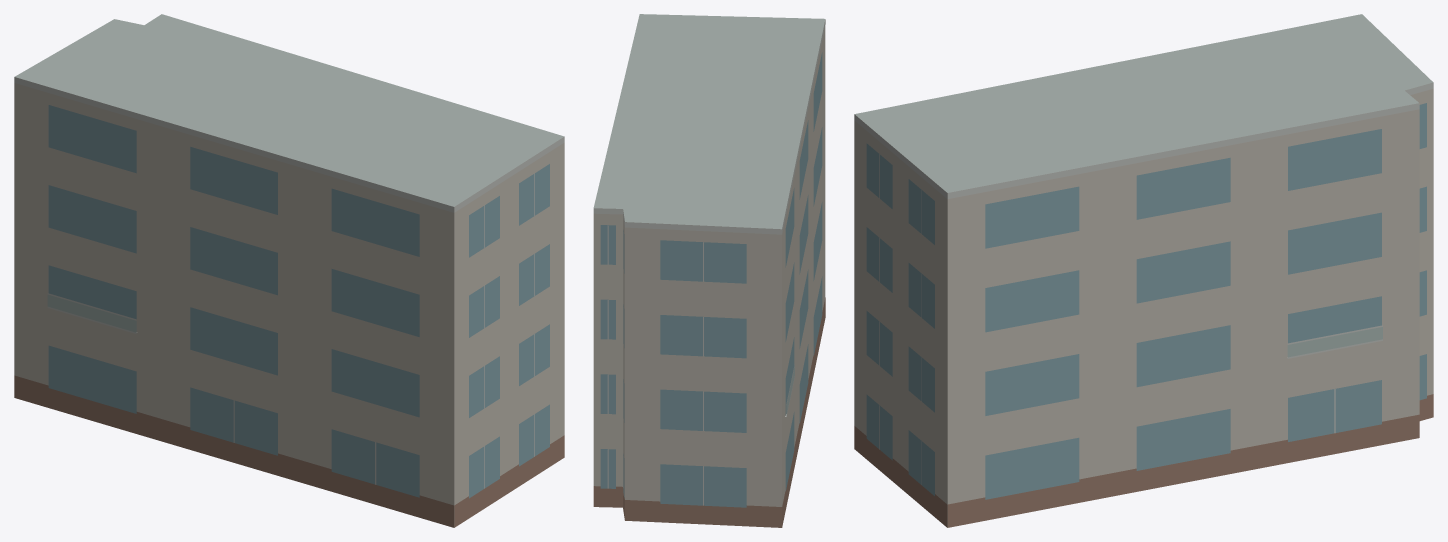
Rendered from survey-upis-32942885.glb.
3 renders of one model, left to right at view 1: azimuth 30°, elevation 25°; view 2: azimuth 150°, elevation 25°; view 3: azimuth 270°, elevation 25°, orthographic. The views are drawn at different scales.
Visible parts, largest first — view 1: survey-upis-32942885.tmp; view 2: survey-upis-32942885.tmp; view 3: survey-upis-32942885.tmp.
Part boxes in pixels (<box>): survey-upis-32942885.tmp: <box>14,14,564,527</box>; survey-upis-32942885.tmp: <box>593,14,825,527</box>; survey-upis-32942885.tmp: <box>854,14,1433,527</box>.
Size of the model in its own units: 15.15 by 13.2 by 20.7.
